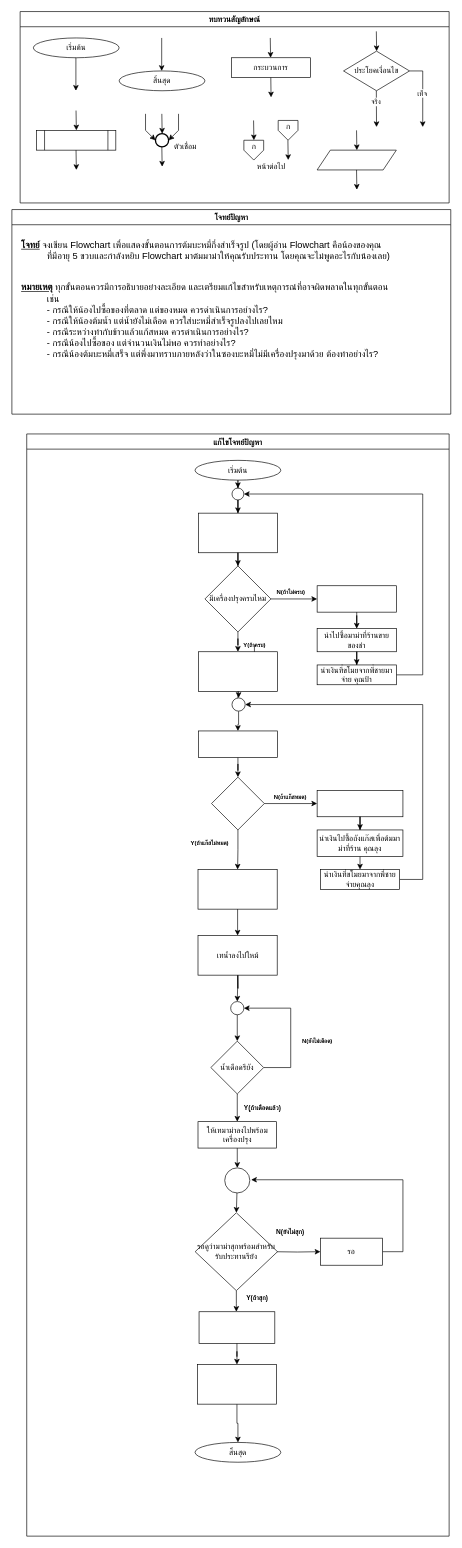
Some shapes in this 462 by 1548 pixel diagram are drawn without their labels. Each missing label, with the centre of its shape:
"นำมาม่าเทใส่ถ้วย" goes at [236,1327].
"นำไปเสริฟให้พี่ชาย รับประทาน" goes at [237,1384].
"ฟังก์ชัน/โมดูล" goes at [76,140].
"เตรียมมาม่า" goes at [238,532].
"เตรียมวัตถุดิบให้พร้อมสำหรับการต้ม" goes at [238,671].
"เปิดถังแก๊ส" goes at [238,743].
"เปิดแก๊สและตั้งหม้อสำหรับต้มน้ำ" goes at [237,889].
"แก๊สหมดไหม" goes at [237,803].
"แสดงผล/รับค่า" goes at [356,159].
"ให้กลับไปขโมยเงินพี่ชายอีกครั้ง" goes at [359,803].
"ให้ไปขโมยเงินให้กระเป๋าพี่ชาย" goes at [356,598].
